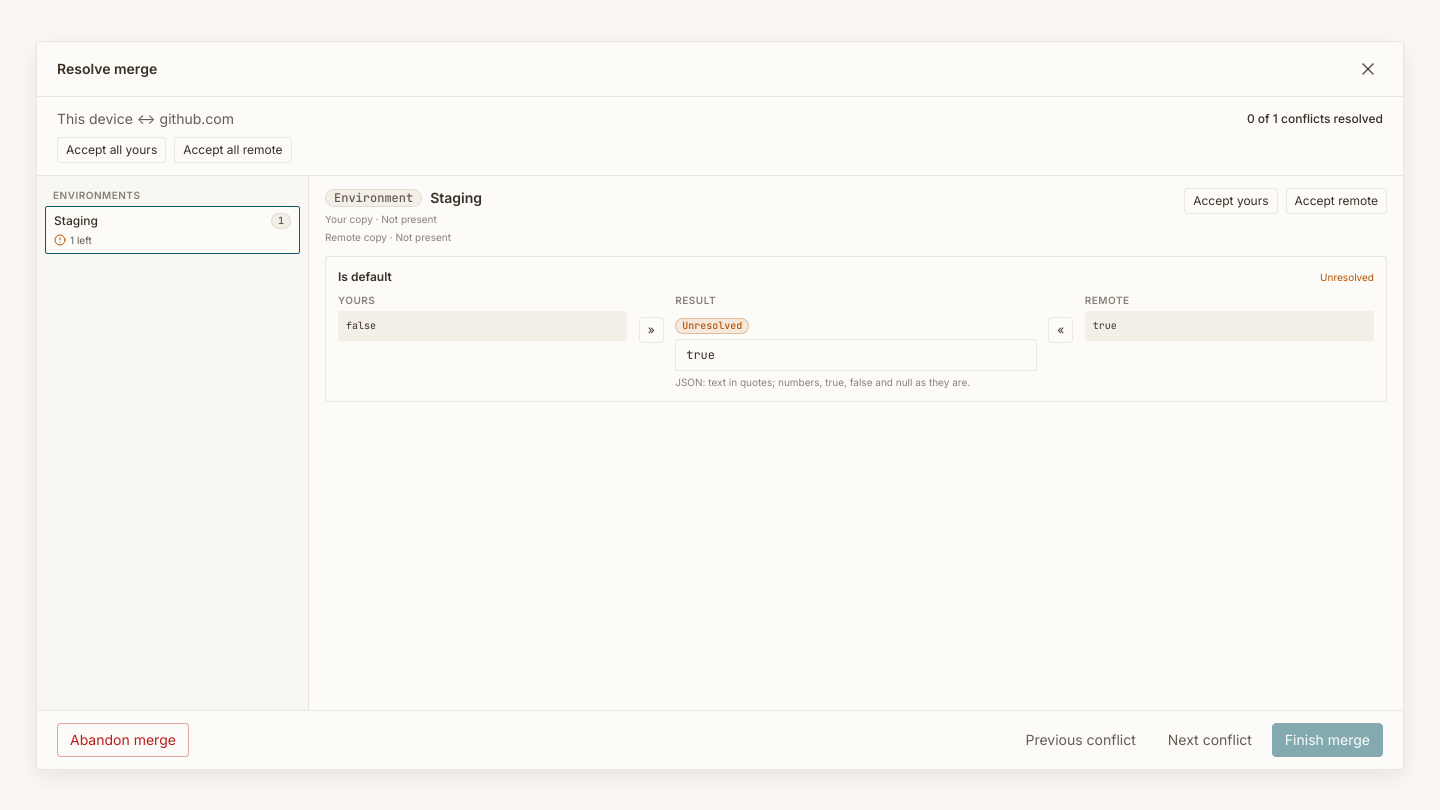
Test: MergeView › refuses JSON that does not parse, drops the pick and describes the error
Replace the text in the field named "Result for Is default in Staging" with "not json". click: (856, 354)
box: x1=675 y1=338 x2=1037 y2=370
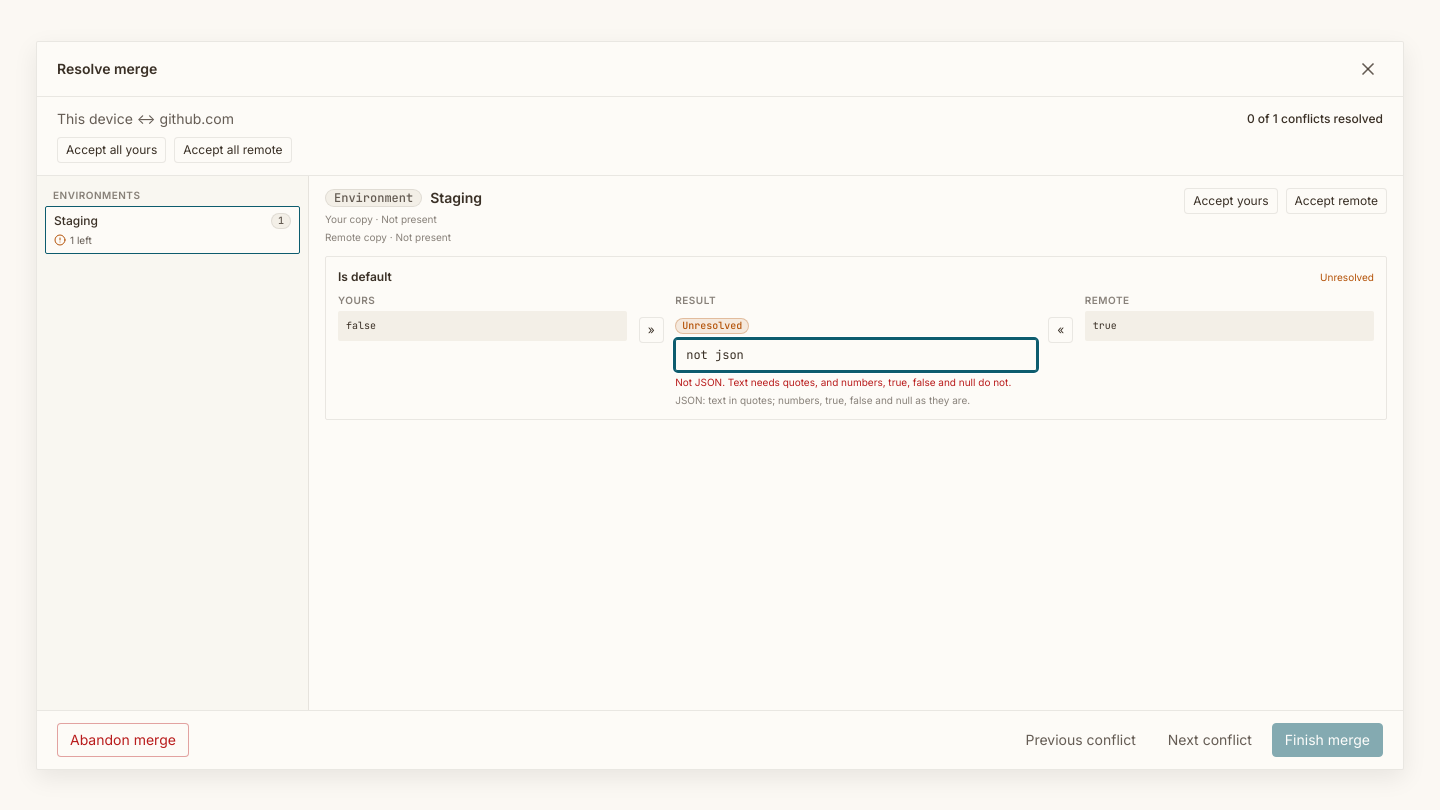
Expected: the message "0 of 1 conflicts resolved" is shown, x1=1247 y1=110 x2=1383 y2=126
Now the message "Not JSON. Text needs quotes, and numbers, true, false and null do not." is shown, box x1=675 y1=374 x2=1037 y2=388
Replace the text in the field named "Result for Is default in Staging" with "false". click: (856, 354)
box: x1=675 y1=338 x2=1037 y2=370
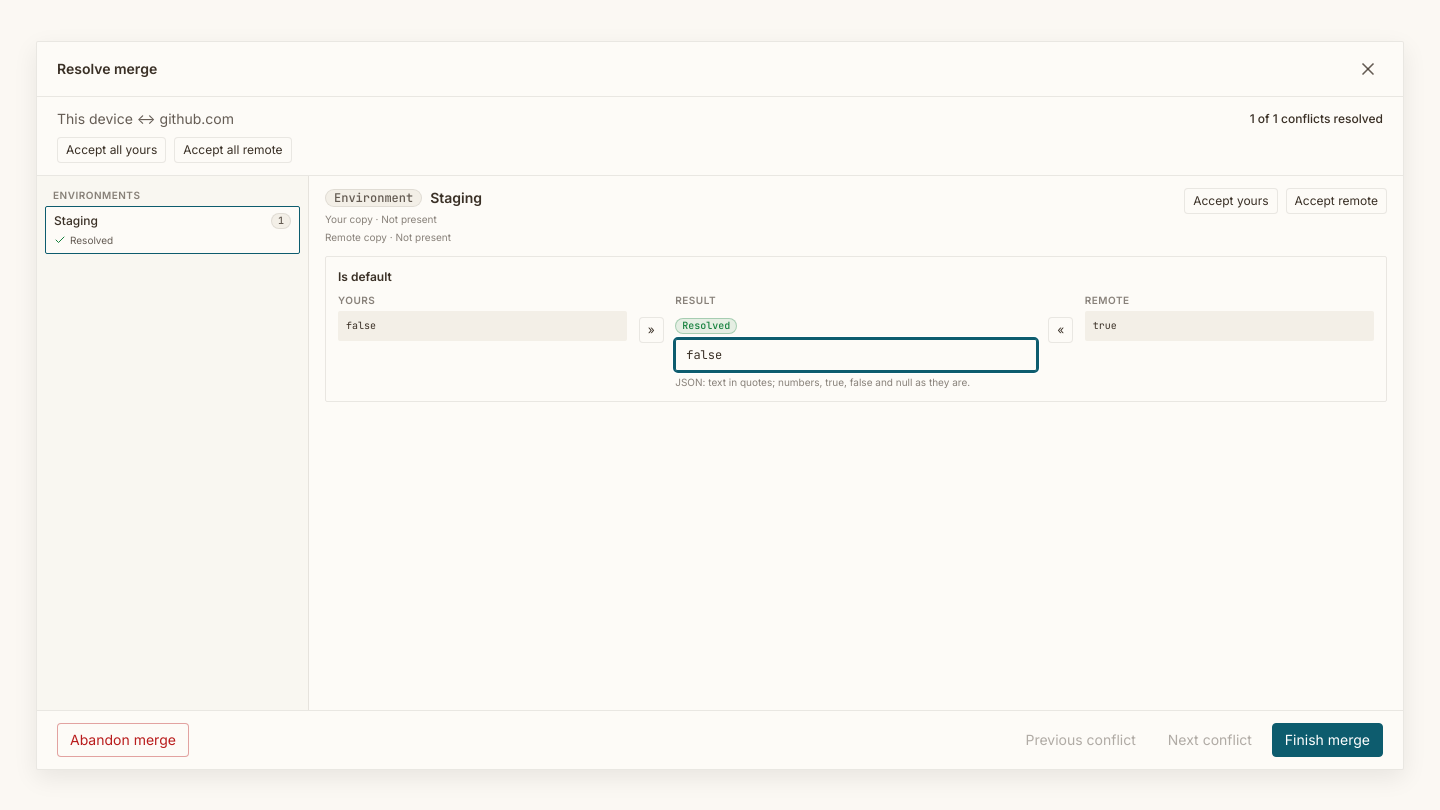
Now the message reads "1 of 1 conflicts resolved", box x1=1250 y1=110 x2=1383 y2=126
